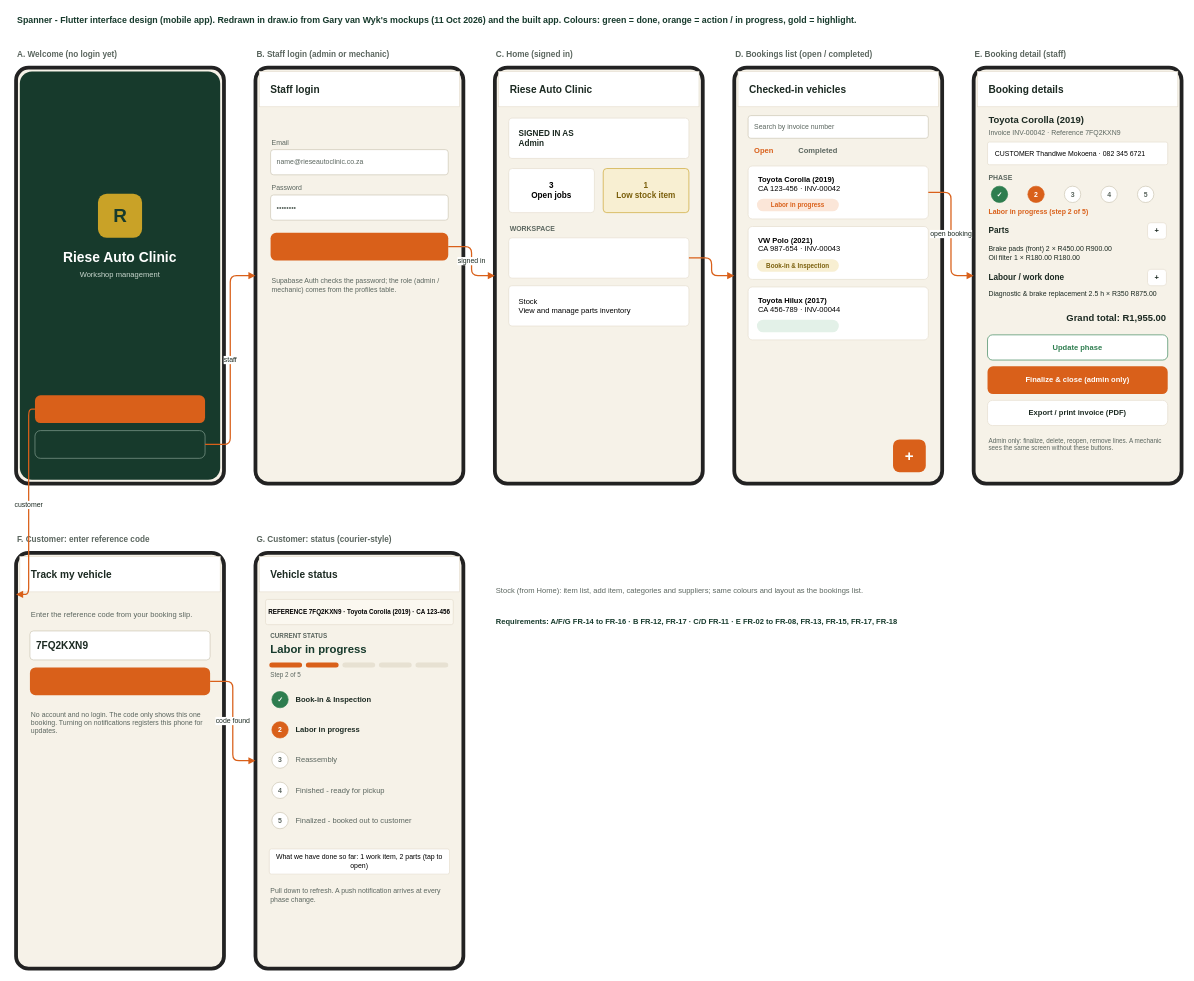
Image size: 1194x981. Some labels were removed from this diagram. The shapes that lost their labels are listed below. From the top down, each one's centre as x and y in pixels, then its label:
pixel 359 246: Log in
pixel 598 257: View bookings Checked-in and closed vehicles
pixel 798 325: Ready for pickup
pixel 120 409: I'm a customer
pixel 119 444: I work here
pixel 120 681: Track
